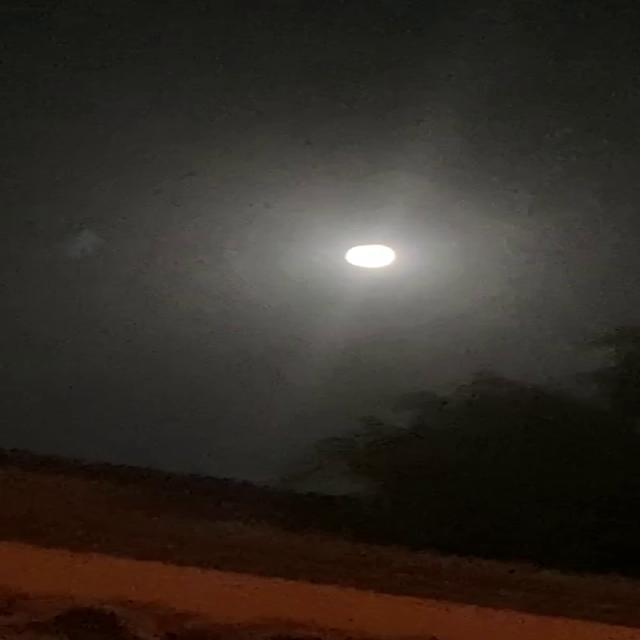moon: (319, 233, 411, 281)
